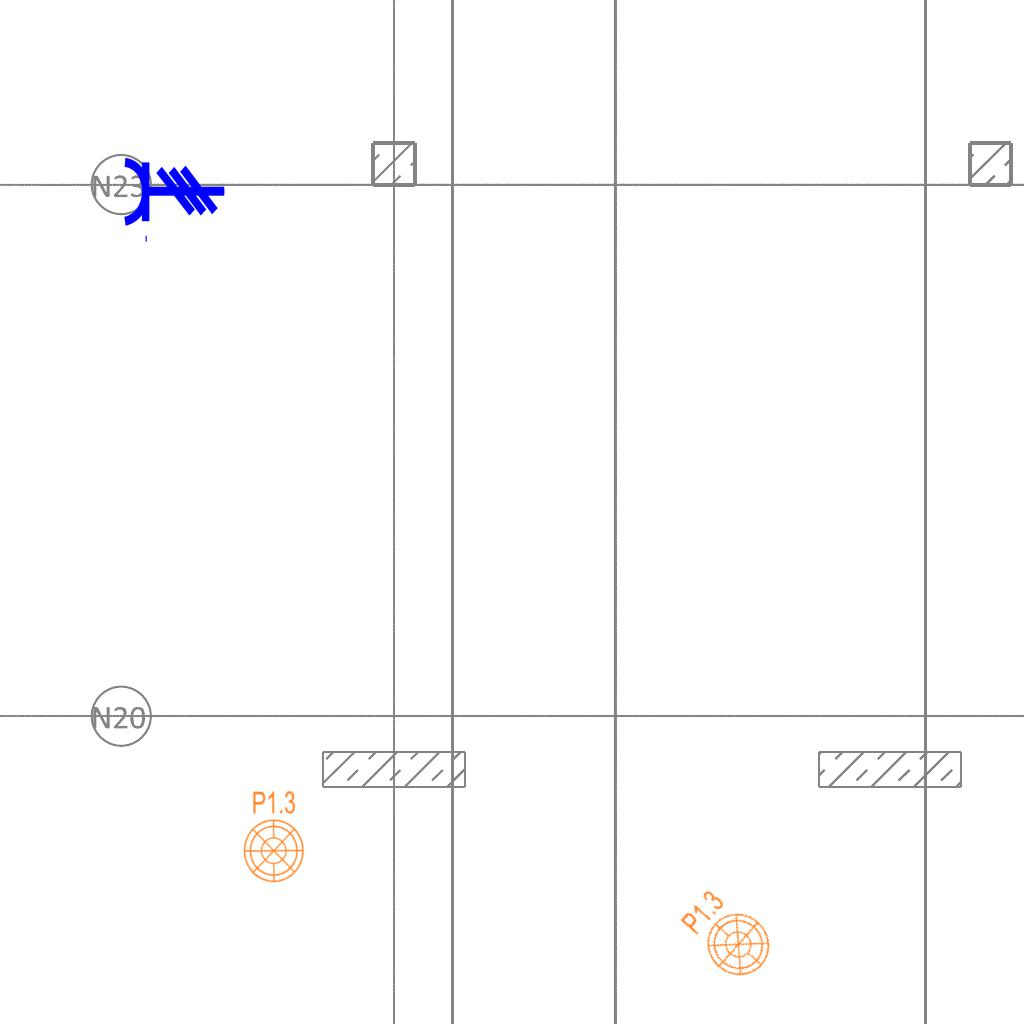Aufbaurundleuchte_LED_Treppenhaus: (666, 870, 788, 991), (242, 782, 311, 884)
CEE_Drehstrom_Steckdose_16_32_A: (122, 155, 226, 245)
